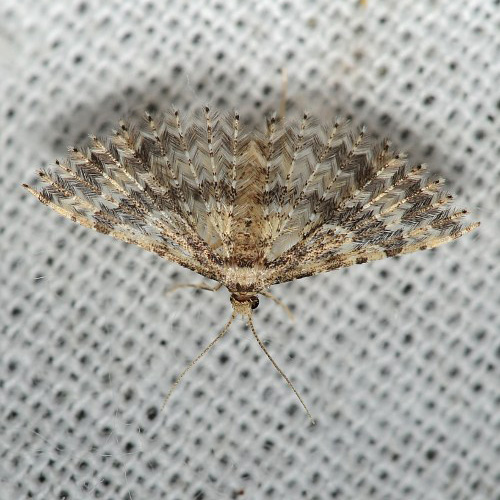Alucitidae: (22, 99, 481, 427)
moth: (24, 101, 483, 429)
